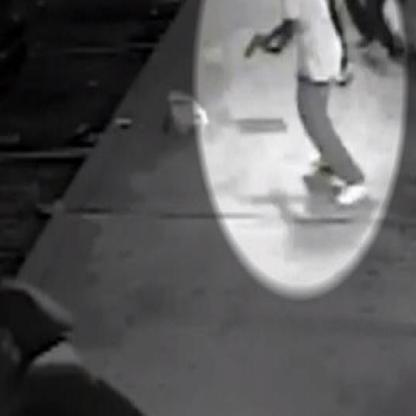gun: (242, 34, 269, 58)
